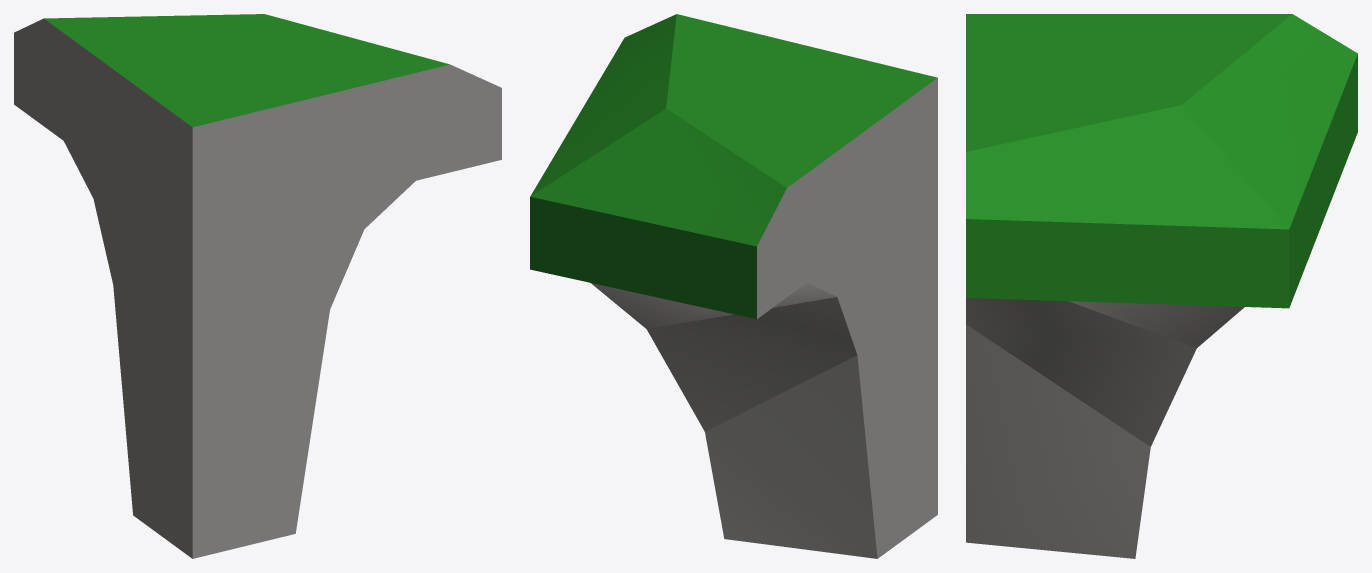
Rendered from Cliff_Top_Corner_Outer_Sm.obj.
3 views of the same model, side by side, from view 1: azimuth 30°, elevation 25°; view 2: azimuth 150°, elevation 25°; view 3: azimuth 270°, elevation 25° (orthographic). The views are drawn at different scales.
Visible parts, largest first — view 1: object1; view 2: object1; view 3: object1.
Boxes of the visible parts, left/top/right/bottom form: object1: left=14, top=14, right=501, bottom=558; object1: left=530, top=14, right=937, bottom=558; object1: left=966, top=14, right=1357, bottom=558.
Size of the model in its own units: 0.9 by 1.2 by 0.9.
